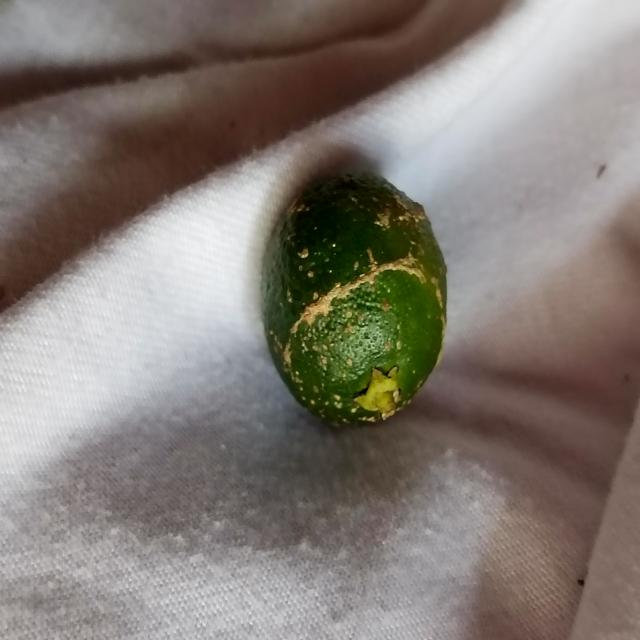scab: (263, 170, 433, 426)
